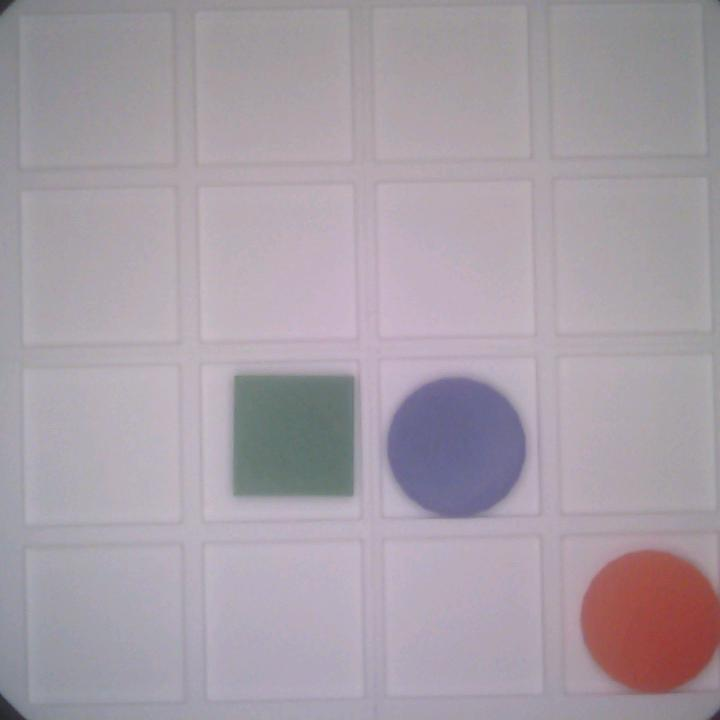Blue circle: (384, 378, 529, 519)
Green square: (229, 370, 356, 499)
Orange circle: (582, 552, 718, 697)
